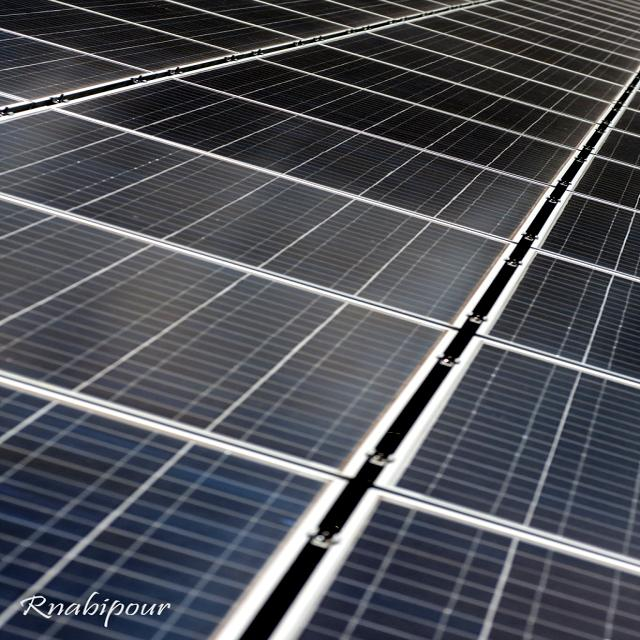crack: (0, 0, 640, 640), (19, 76, 640, 264), (157, 44, 640, 194)
